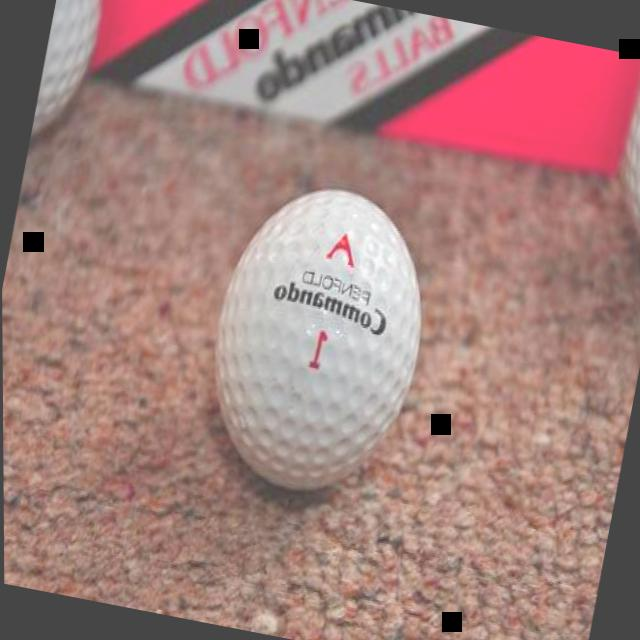golf ball: (181, 153, 454, 506)
